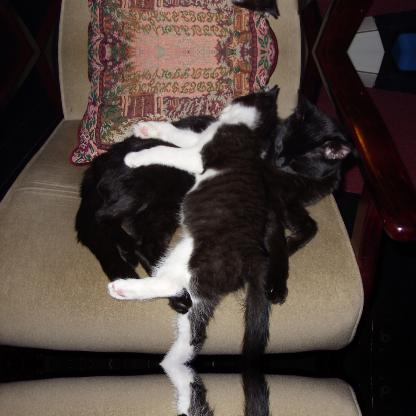Cat: (71, 81, 357, 362)
